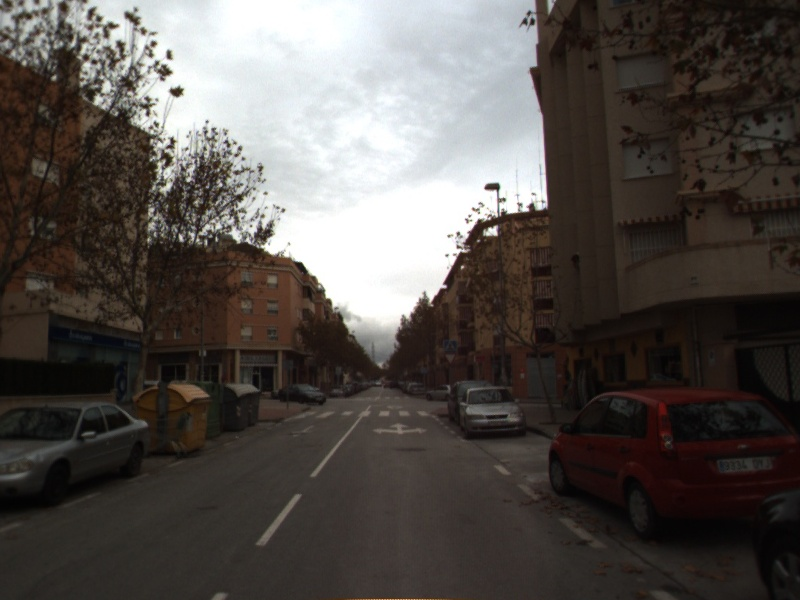STRAIGHT_LEFT_RIGHT: (371, 420, 430, 437)
